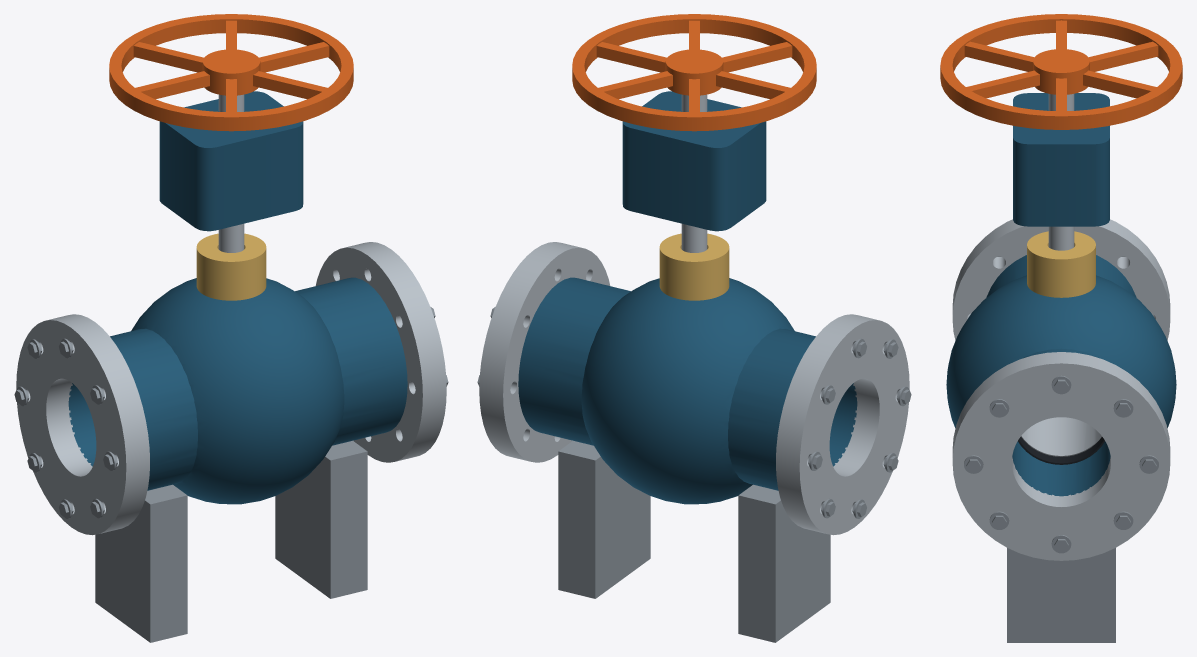
3 renders of one model, left to right at view 1: azimuth 30°, elevation 25°; view 2: azimuth 150°, elevation 25°; view 3: azimuth 270°, elevation 25°, orthographic.
Visible parts, largest first — view 1: Valve_body_shell, Mounting_saddles, Inlet_bolted_flange, Handwheel_and_spokes, Actuator_gearbox_housing, Outlet_bolted_flange, Packing_gland, Inlet_flange_fasteners, Valve_spindle; view 2: Valve_body_shell, Mounting_saddles, Inlet_bolted_flange, Handwheel_and_spokes, Actuator_gearbox_housing, Outlet_bolted_flange, Packing_gland, Inlet_flange_fasteners, Valve_spindle; view 3: Outlet_bolted_flange, Valve_body_shell, Handwheel_and_spokes, Actuator_gearbox_housing, Mounting_saddles, Inlet_bolted_flange, Packing_gland, Outlet_flange_fasteners, Bored_stainless_ball, Valve_spindle, Outlet_elastomer_seat.
Part boxes in pixels (bbox=[...]): Valve_body_shell: bbox=[68, 277, 407, 504]; Mounting_saddles: bbox=[95, 440, 367, 642]; Inlet_bolted_flange: bbox=[16, 314, 149, 535]; Handwheel_and_spokes: bbox=[109, 14, 353, 131]; Actuator_gearbox_housing: bbox=[159, 91, 303, 231]; Outlet_bolted_flange: bbox=[315, 242, 446, 462]; Packing_gland: bbox=[196, 233, 266, 300]; Inlet_flange_fasteners: bbox=[14, 338, 117, 518]; Valve_spindle: bbox=[218, 94, 244, 252]; Valve_body_shell: bbox=[518, 277, 857, 504]; Mounting_saddles: bbox=[558, 440, 830, 642]; Inlet_bolted_flange: bbox=[776, 314, 909, 535]; Handwheel_and_spokes: bbox=[572, 14, 816, 131]; Actuator_gearbox_housing: bbox=[622, 91, 766, 231]; Outlet_bolted_flange: bbox=[479, 242, 610, 462]; Packing_gland: bbox=[659, 233, 729, 300]; Inlet_flange_fasteners: bbox=[808, 338, 911, 518]; Valve_spindle: bbox=[681, 94, 707, 252]; Outlet_bolted_flange: bbox=[952, 352, 1170, 560]; Valve_body_shell: bbox=[946, 255, 1176, 496]; Handwheel_and_spokes: bbox=[940, 14, 1182, 129]; Actuator_gearbox_housing: bbox=[1013, 93, 1109, 226]; Mounting_saddles: bbox=[1007, 548, 1115, 642]; Inlet_bolted_flange: bbox=[952, 219, 1170, 340]; Packing_gland: bbox=[1027, 231, 1095, 297]; Outlet_flange_fasteners: bbox=[964, 375, 1158, 553]; Bored_stainless_ball: bbox=[1021, 417, 1101, 456]; Valve_spindle: bbox=[1048, 94, 1074, 250]; Outlet_elastomer_seat: bbox=[1018, 437, 1104, 464].
Bounding box in the file's own units: 0.6384 × 0.965 × 0.4.
